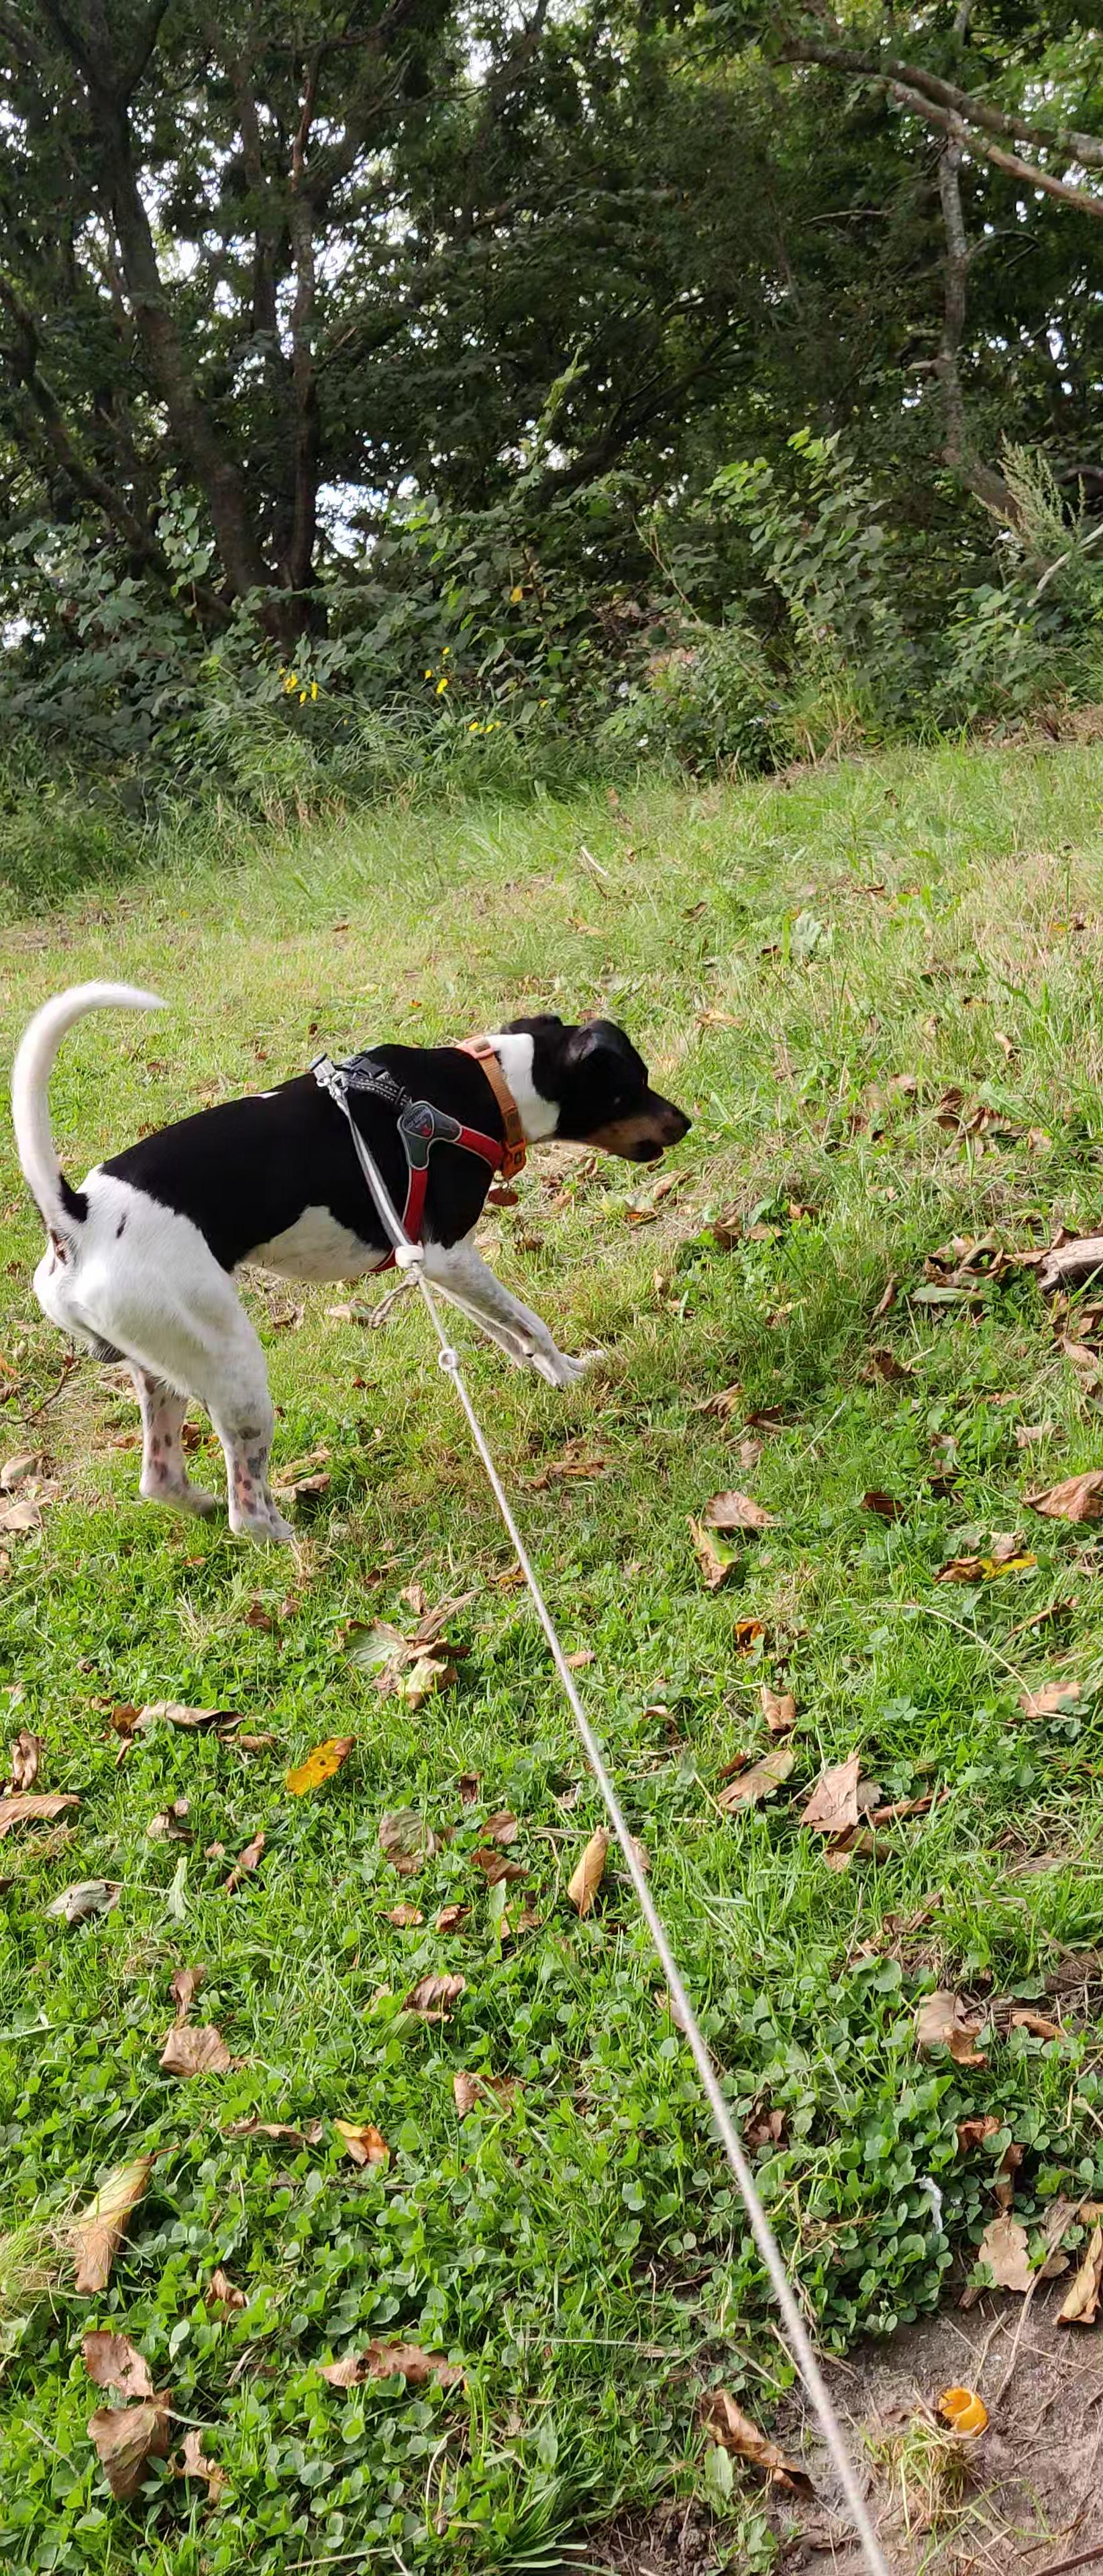Dog: (3, 964, 717, 1564)
